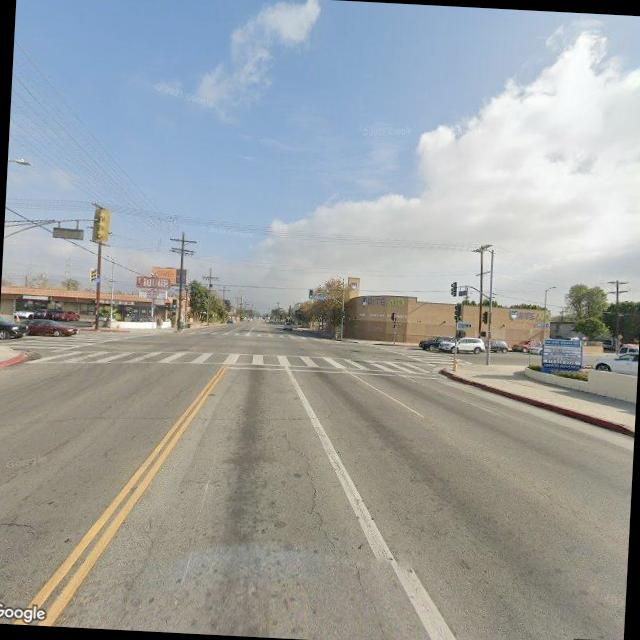pothole: (278, 431, 341, 550)
